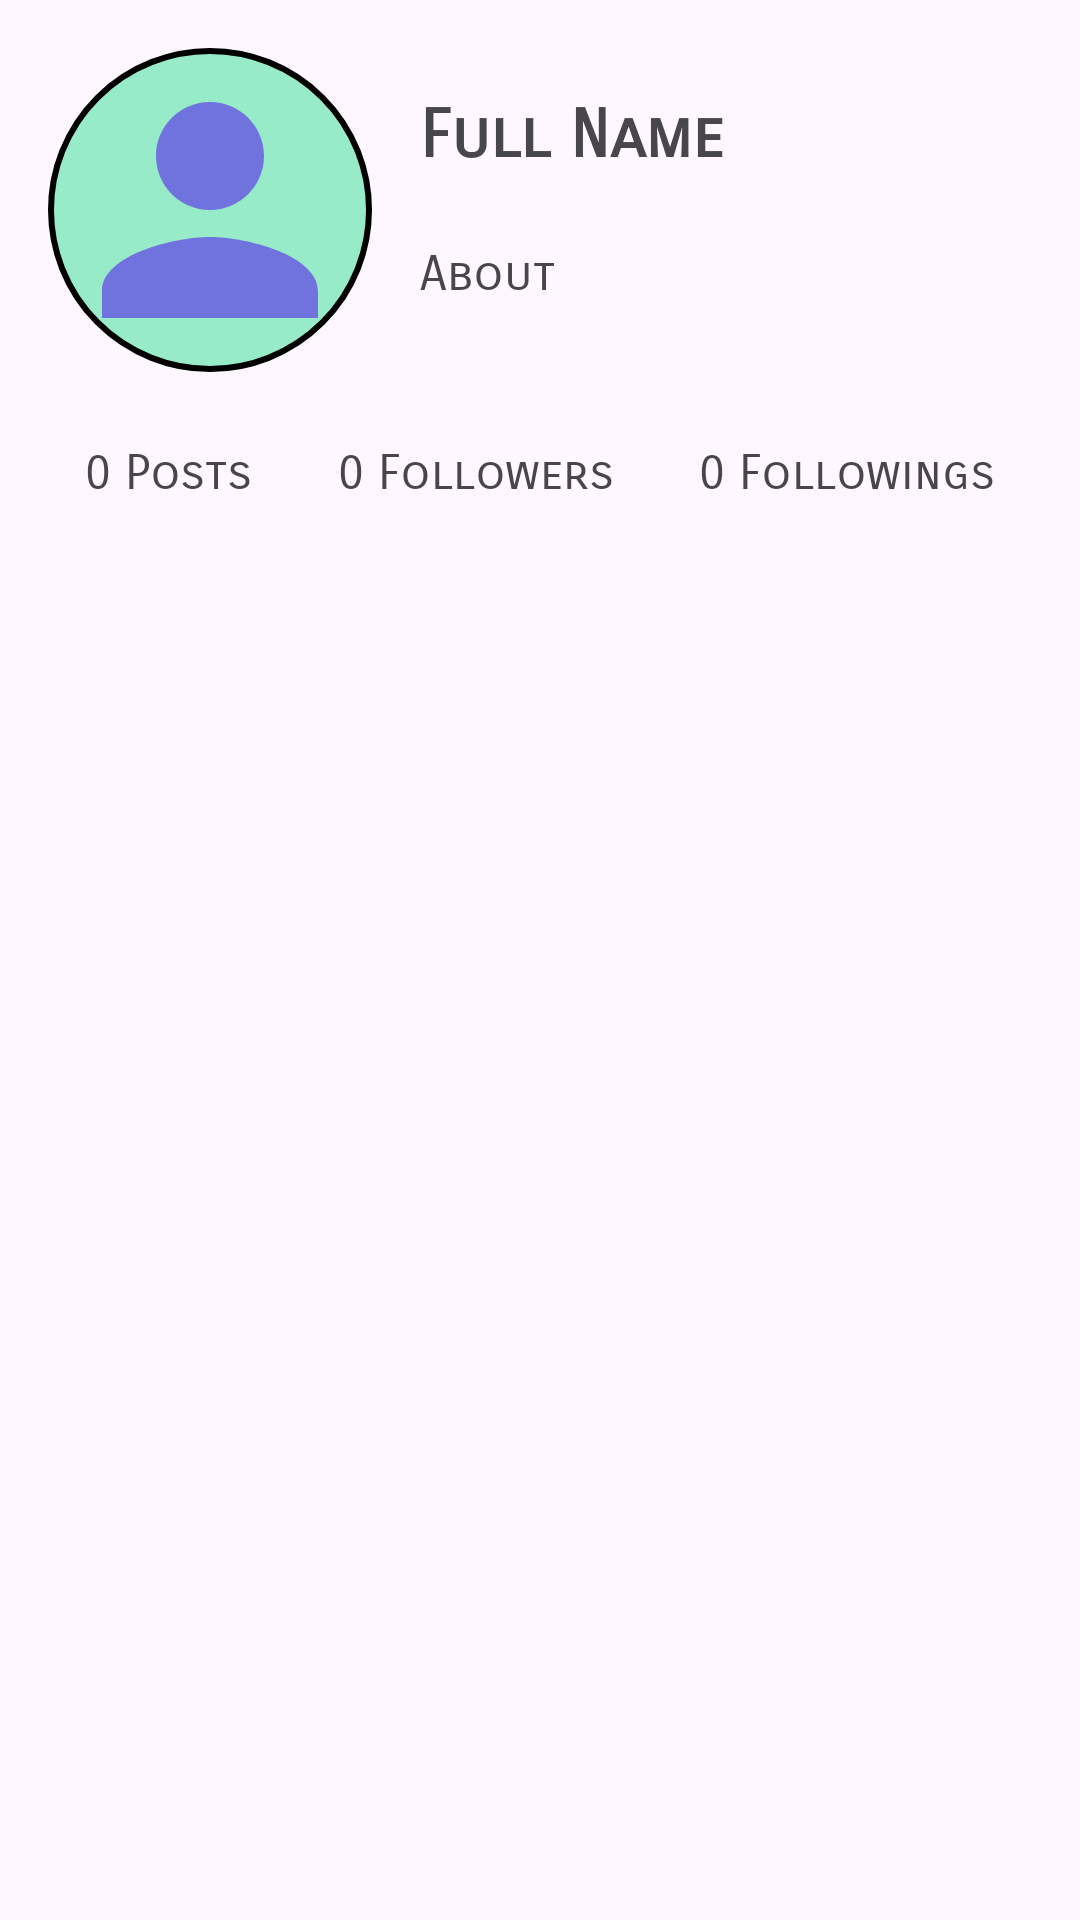

Screen size 1080x1920. Icon name, then its box in pixels as detection(x1, y1, x2, y2):
Profile Pic of the User: detection(48, 48, 372, 372)
